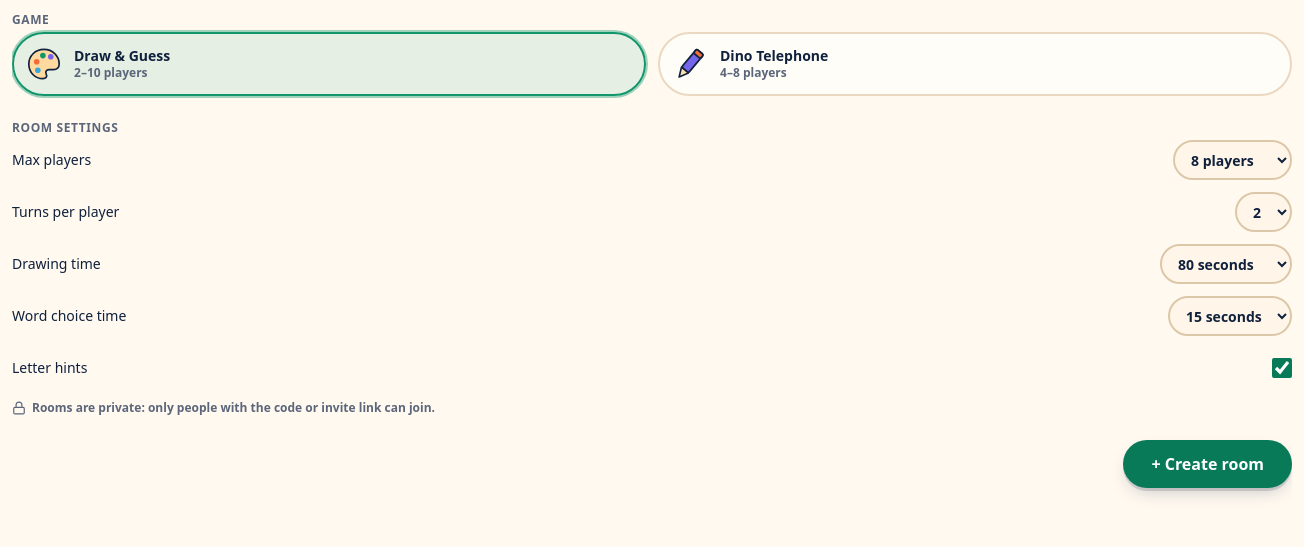
CreateRoomForm › shows an error when the guest is already in a room
Click the button "+ Create room".
click(1208, 464)  # box [1123, 440, 1292, 488]
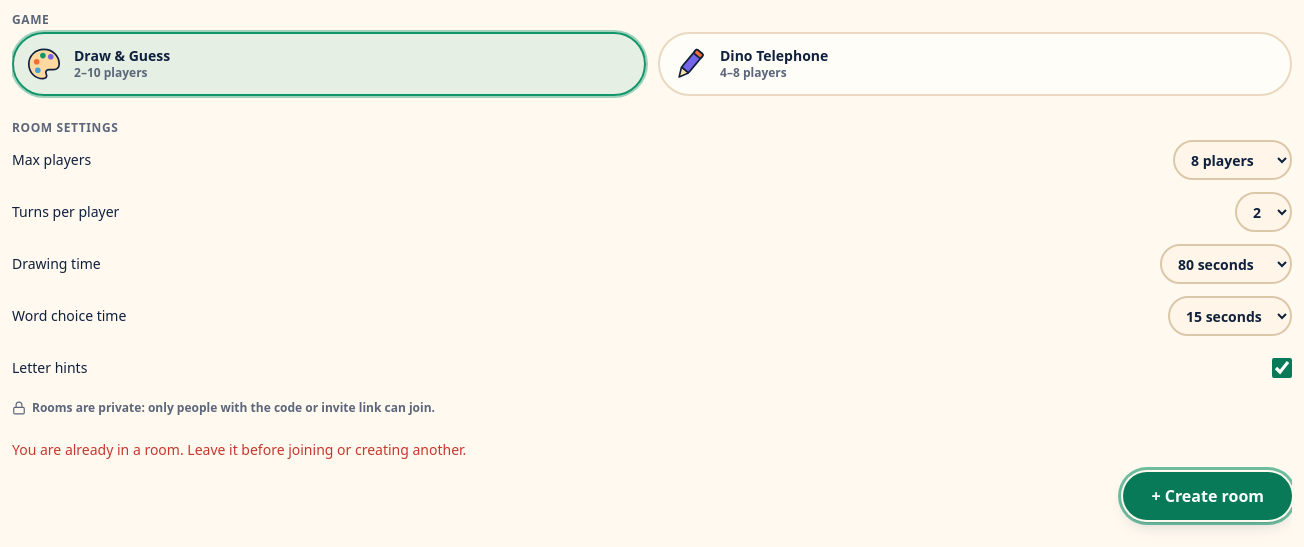
expect the message shows "You are already in a room": met, box [12, 440, 466, 459]
